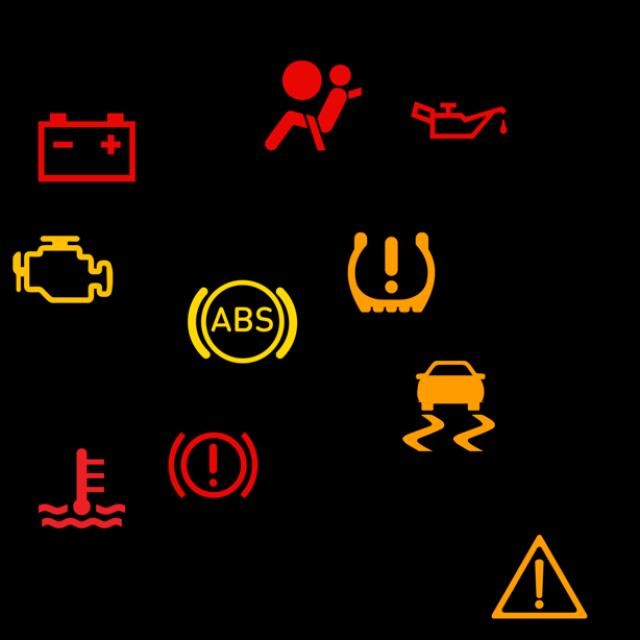Anti Lock Braking System: (182, 262, 302, 382)
Braking System Issue: (153, 406, 273, 526)
Charging System Issue: (27, 88, 147, 208)
Check Engine: (3, 210, 123, 330)
Electronic Stability Problem -ESP-: (388, 346, 508, 466)
Engine Overheating Warning Light: (22, 428, 142, 548)
Low Engine Oil Warning Light: (399, 61, 519, 180)
Low Tire Pressure Warning Light: (332, 212, 452, 332)
Master warning light: (480, 517, 600, 637)
SRS-Airbag: (253, 46, 373, 166)
